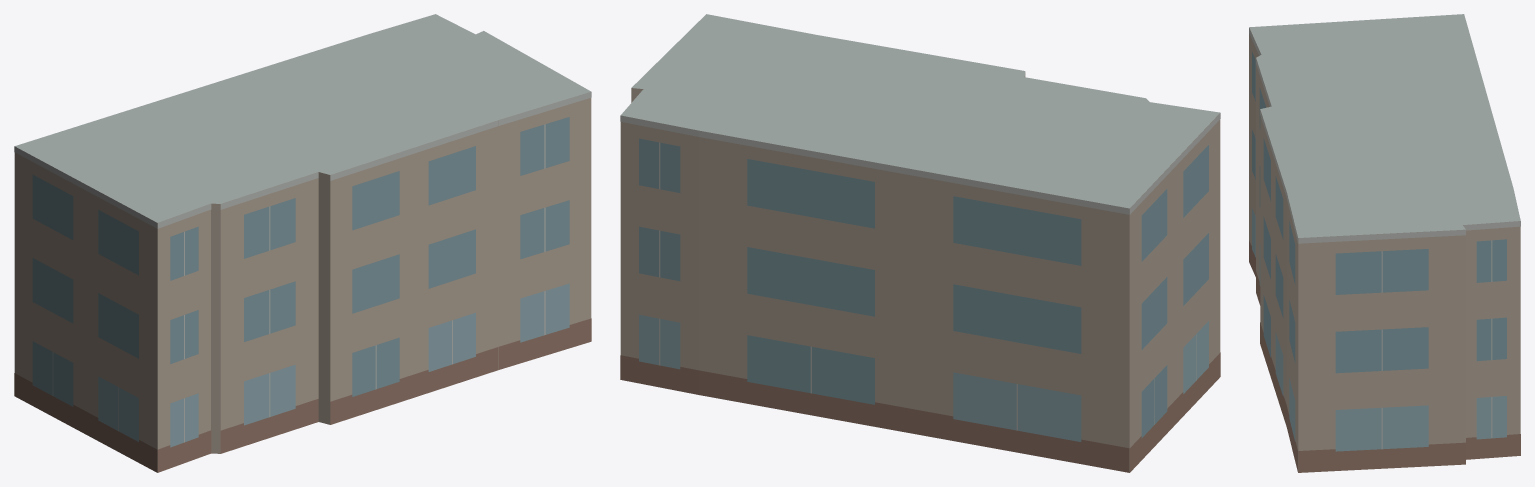
The model's file is survey-upis-32676075.glb.
The picture shows the model from 3 angles, left to right: view 1: azimuth 30°, elevation 25°; view 2: azimuth 150°, elevation 25°; view 3: azimuth 270°, elevation 25°; orthographic projection. The views are drawn at different scales.
Parts seen in each view (by area): view 1: survey-upis-32676075.tmp; view 2: survey-upis-32676075.tmp; view 3: survey-upis-32676075.tmp.
Part boxes in pixels (x1=…): survey-upis-32676075.tmp: x1=14, y1=14, x2=591, y2=472; survey-upis-32676075.tmp: x1=620, y1=14, x2=1220, y2=472; survey-upis-32676075.tmp: x1=1249, y1=14, x2=1520, y2=472.
Size of the model in its own units: 20.88 by 10.2 by 10.71.
